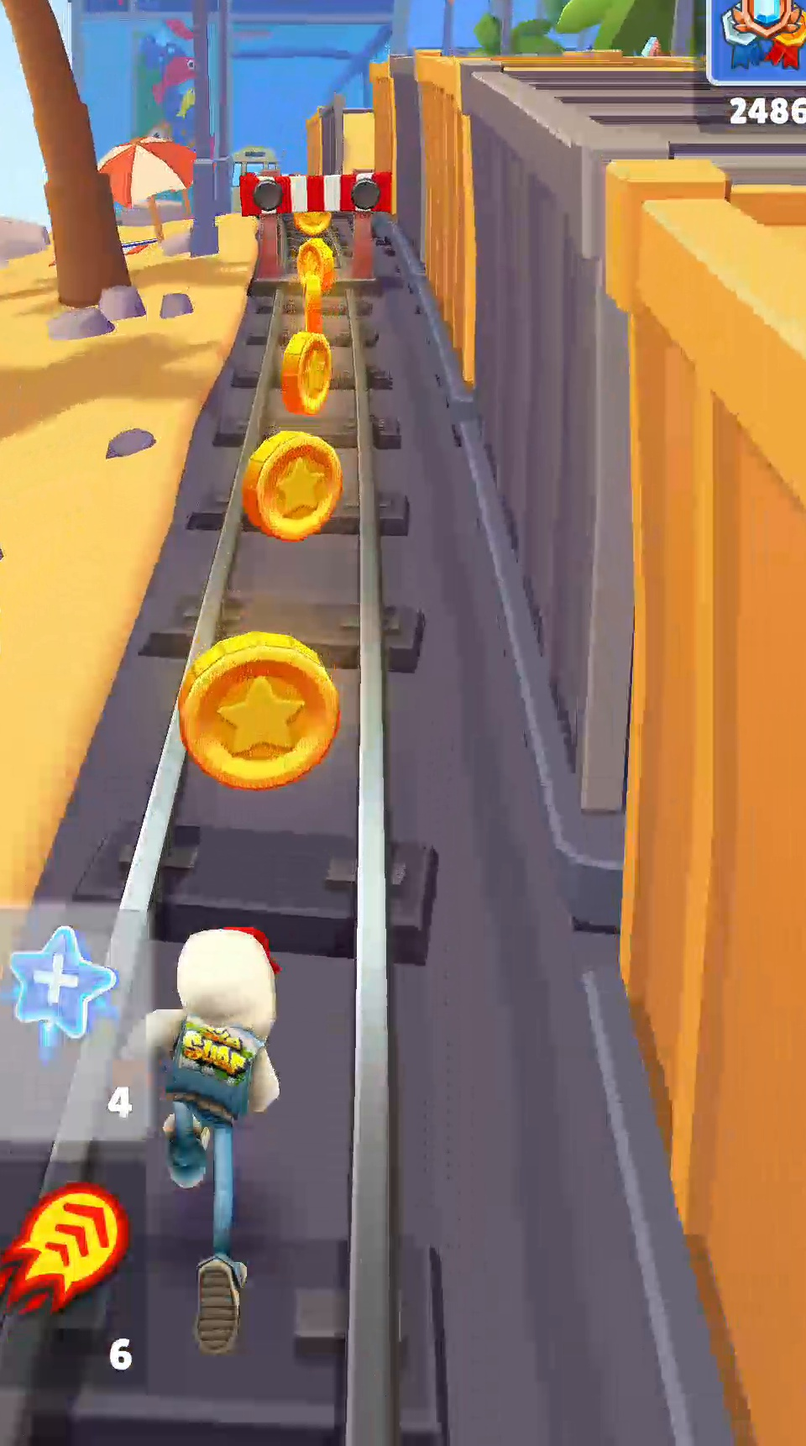climber: (342, 110, 374, 170)
train: (370, 51, 805, 1445), (307, 95, 343, 172), (233, 146, 280, 179)
